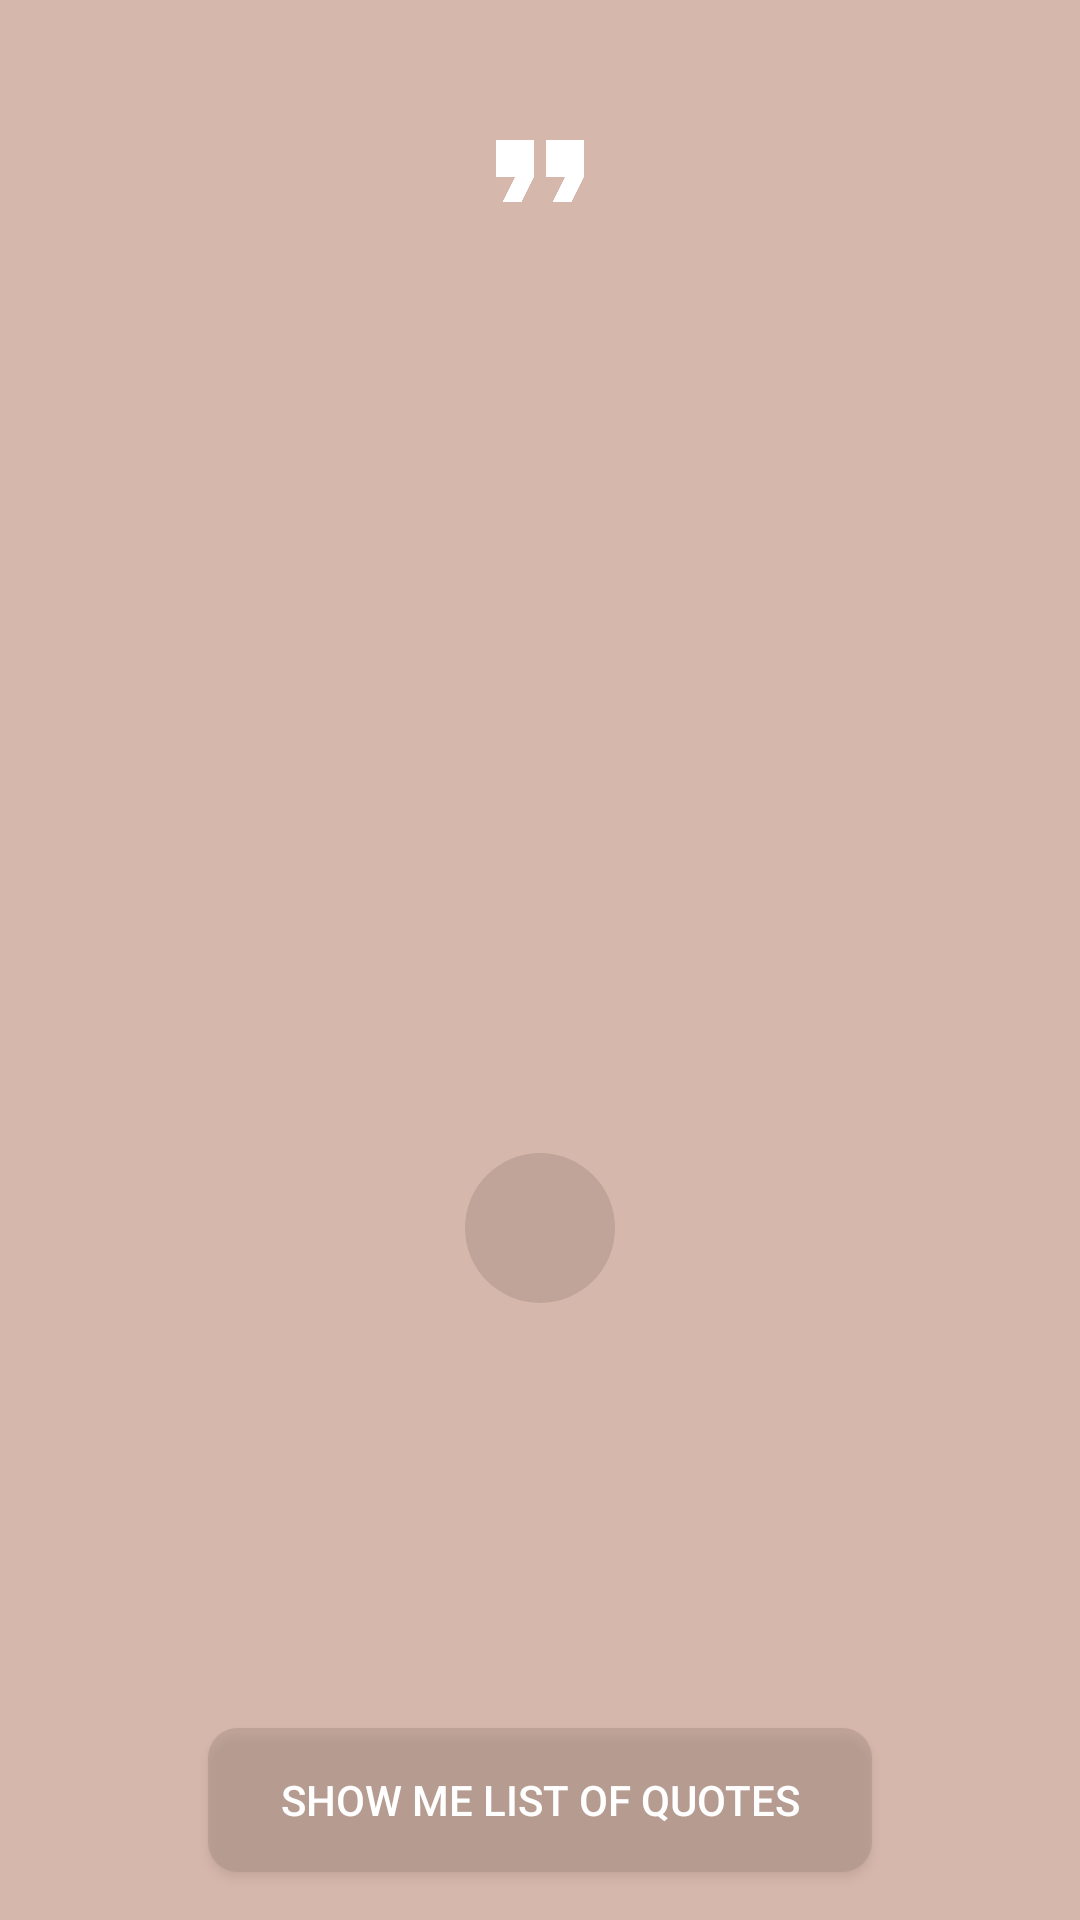

Named icons in this screenshot (1080px x 1920px) and their bounding boxes, (x1, y1, x2, y2):
format quote brown: (496, 140, 584, 202)
